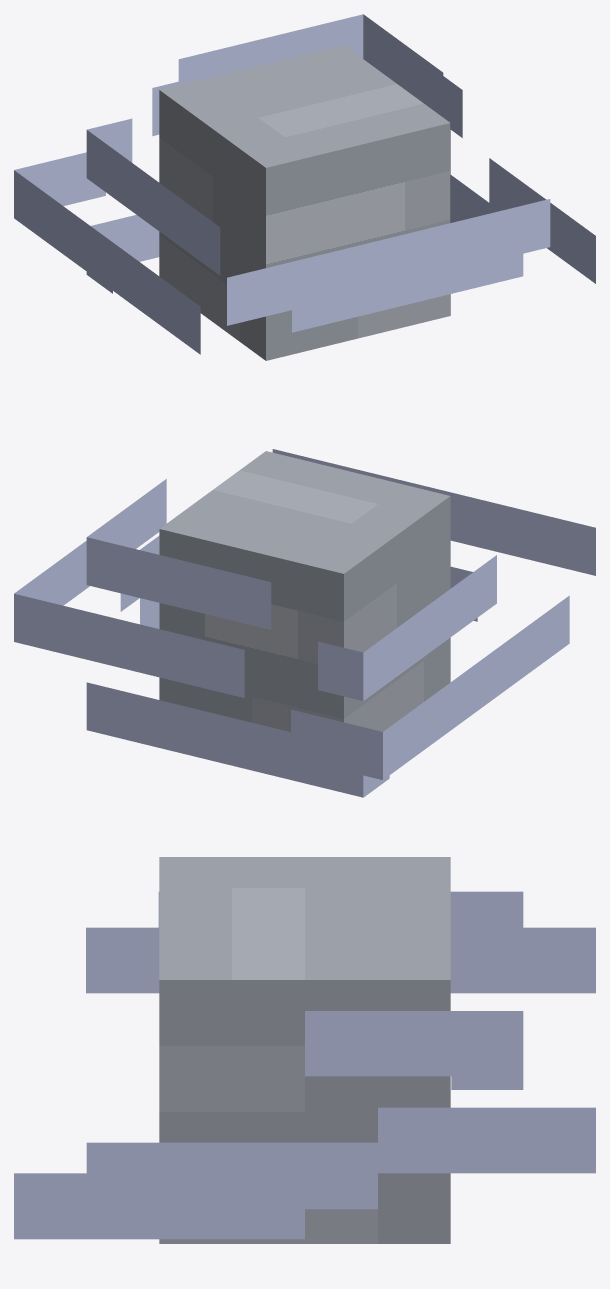
The model's file is breeze_wind_charge.gltf.
The picture shows the model from 3 angles, top to bottom: view 1: azimuth 30°, elevation 25°; view 2: azimuth 150°, elevation 25°; view 3: azimuth 270°, elevation 25°; orthographic projection. The views are drawn at different scales.
Visible parts, largest first — view 1: charge, wind (×2); view 2: wind (×2), charge; view 3: charge, wind (×2).
Part boxes in pixels (x1=…): charge: x1=159, y1=45, x2=450, y2=360; wind (×2): x1=14, y1=14, x2=595, y2=354; wind (×2): x1=14, y1=449, x2=595, y2=797; charge: x1=159, y1=451, x2=450, y2=731; charge: x1=159, y1=857, x2=450, y2=1243; wind (×2): x1=14, y1=891, x2=595, y2=1239.
Size of the model in its own units: 0.5 by 0.25 by 0.5.
Materials: 1 (1 with a texture image).
